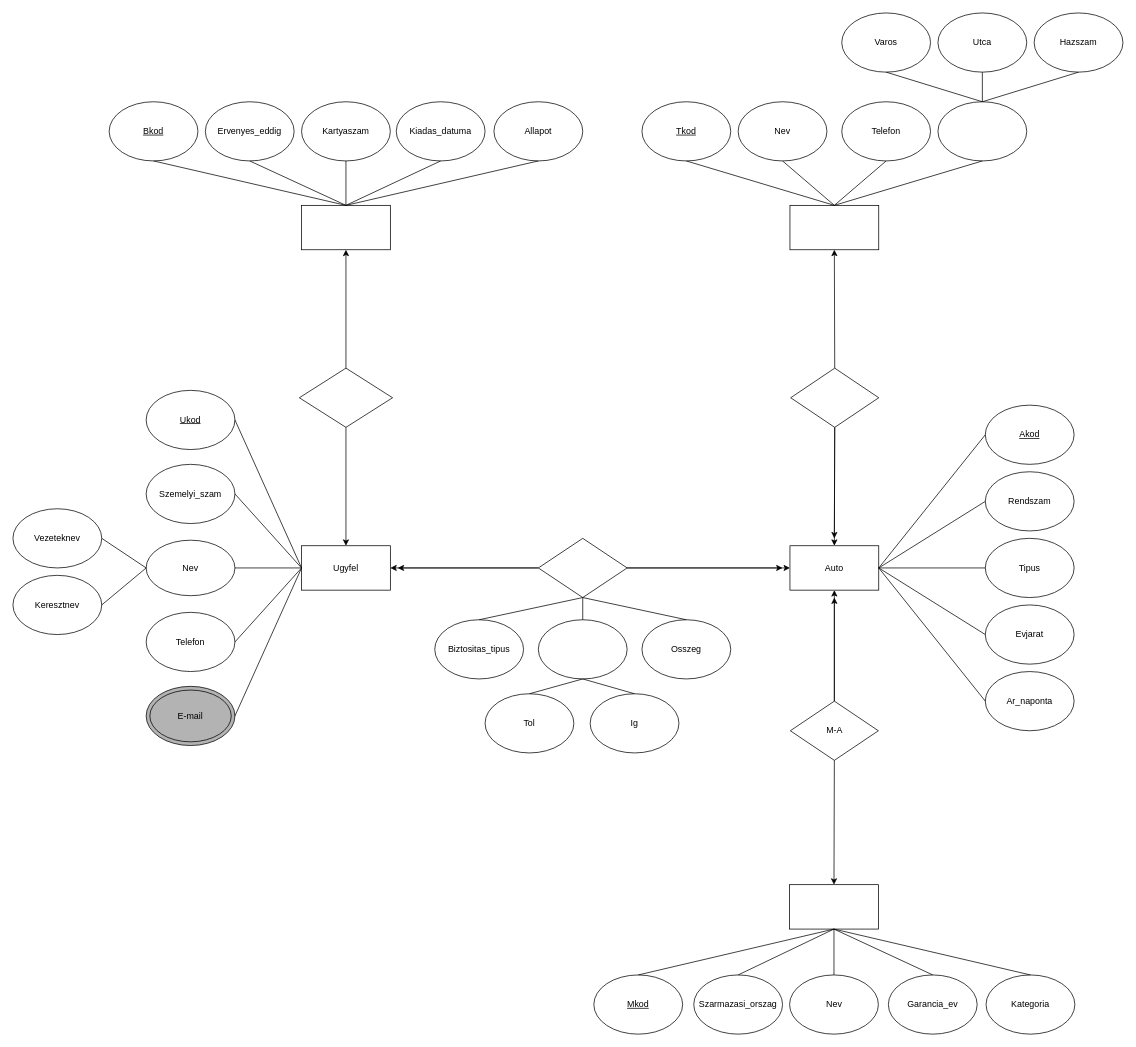
The diagram is 1136 pixels wide and 1047 high, and some of its shapes have lost their labels. Each missing label, with the centre of its shape:
Berles: point 582,568
BerletiKartya: point 345,227
Cim: point 982,131
Datum: point 582,649
Marka: point 833,906
T-A: point 834,397
Telephely: point 834,227
U-B: point 346,397
